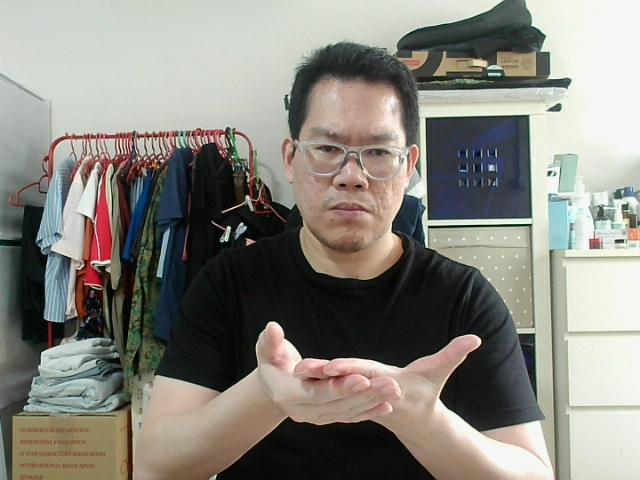good: (264, 337, 384, 410)
